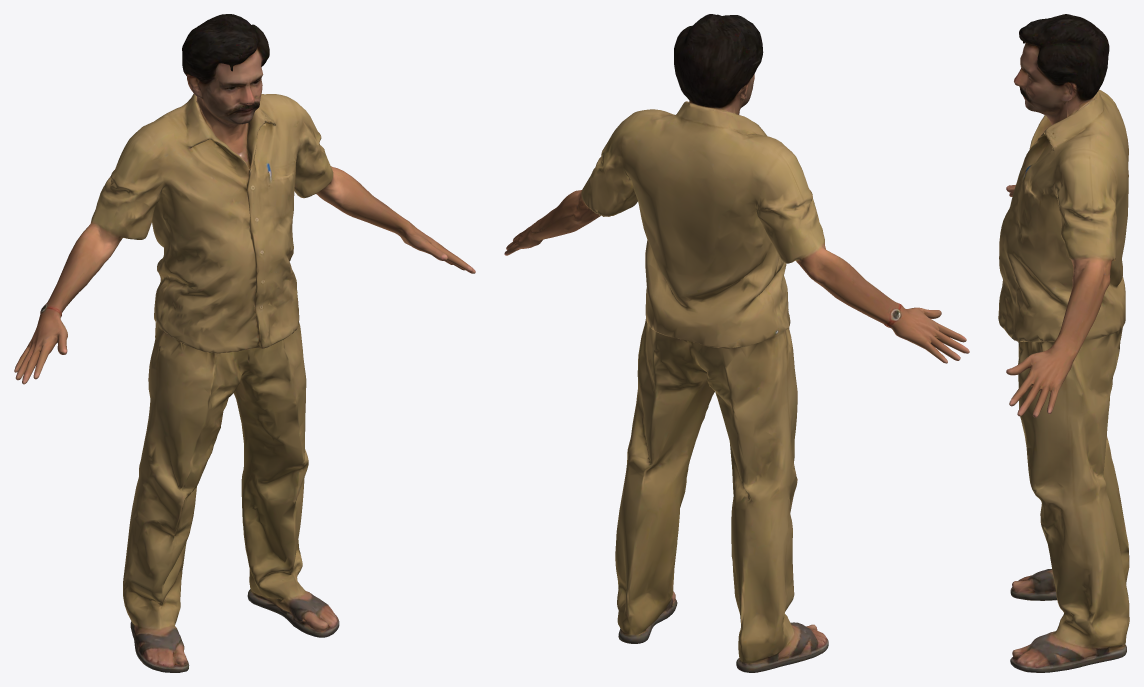
Rendered from npc-autodriver.glb.
3 views of the same model, side by side, from view 1: azimuth 30°, elevation 25°; view 2: azimuth 150°, elevation 25°; view 3: azimuth 270°, elevation 25° (orthographic).
Parts seen in each view (by area): view 1: SK_NPC_AutoDriver; view 2: SK_NPC_AutoDriver; view 3: SK_NPC_AutoDriver.
Part boxes in pixels (x1,y1,x2,y2): SK_NPC_AutoDriver: (14, 14, 475, 672); SK_NPC_AutoDriver: (504, 14, 969, 672); SK_NPC_AutoDriver: (998, 14, 1129, 672).
Bounding box in the file's own units: 145 × 189 × 36.8.
Materials: 1 (1 with a texture image).
